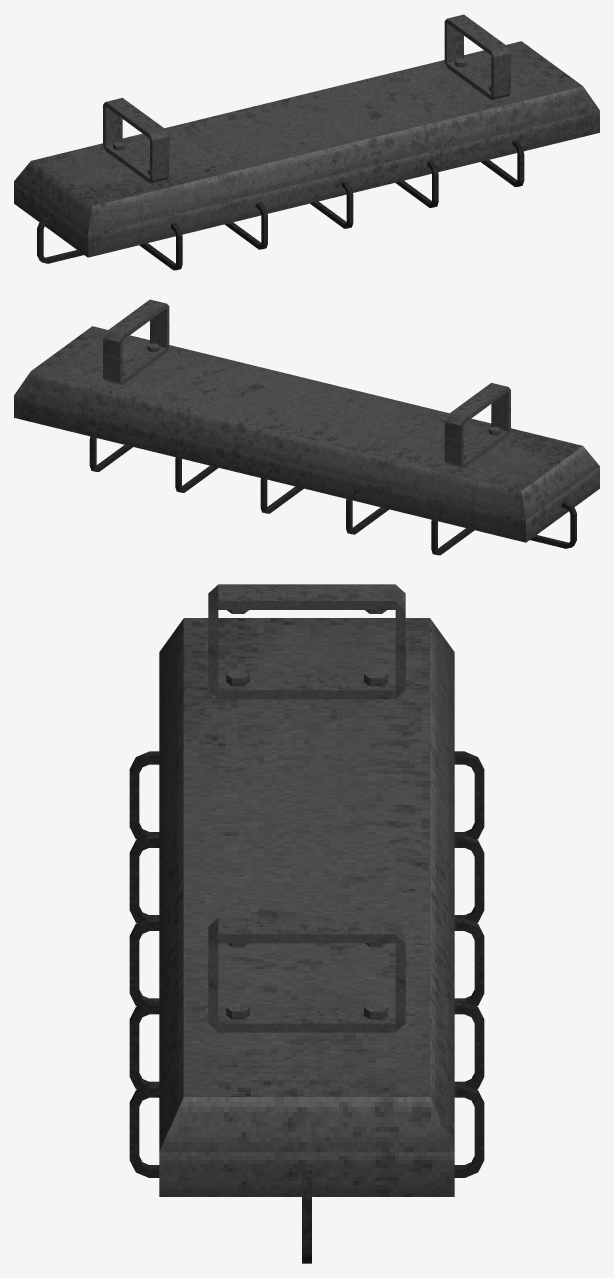
File: ceiling_lamp_4_1_a_on.glb
3 renders of one model, top to bottom at view 1: azimuth 30°, elevation 25°; view 2: azimuth 150°, elevation 25°; view 3: azimuth 270°, elevation 25°, orthographic. The views are drawn at different scales.
Visible parts, largest first — view 1: ceiling_lamp_4_1_a_on, ceiling_lamp_4_1_a_on_protector; view 2: ceiling_lamp_4_1_a_on, ceiling_lamp_4_1_a_on_protector; view 3: ceiling_lamp_4_1_a_on, ceiling_lamp_4_1_a_on_protector.
Part boxes in pixels (box(x1,y1,x2,y2)): ceiling_lamp_4_1_a_on: box(14, 14, 599, 257); ceiling_lamp_4_1_a_on_protector: box(37, 139, 524, 270); ceiling_lamp_4_1_a_on: box(14, 299, 599, 542); ceiling_lamp_4_1_a_on_protector: box(89, 424, 576, 555); ceiling_lamp_4_1_a_on: box(159, 584, 454, 1196); ceiling_lamp_4_1_a_on_protector: box(129, 751, 484, 1263).
Bounding box in the file's own units: 1.26 × 0.28 × 0.36.
Materials: 2 (2 with a texture image).
